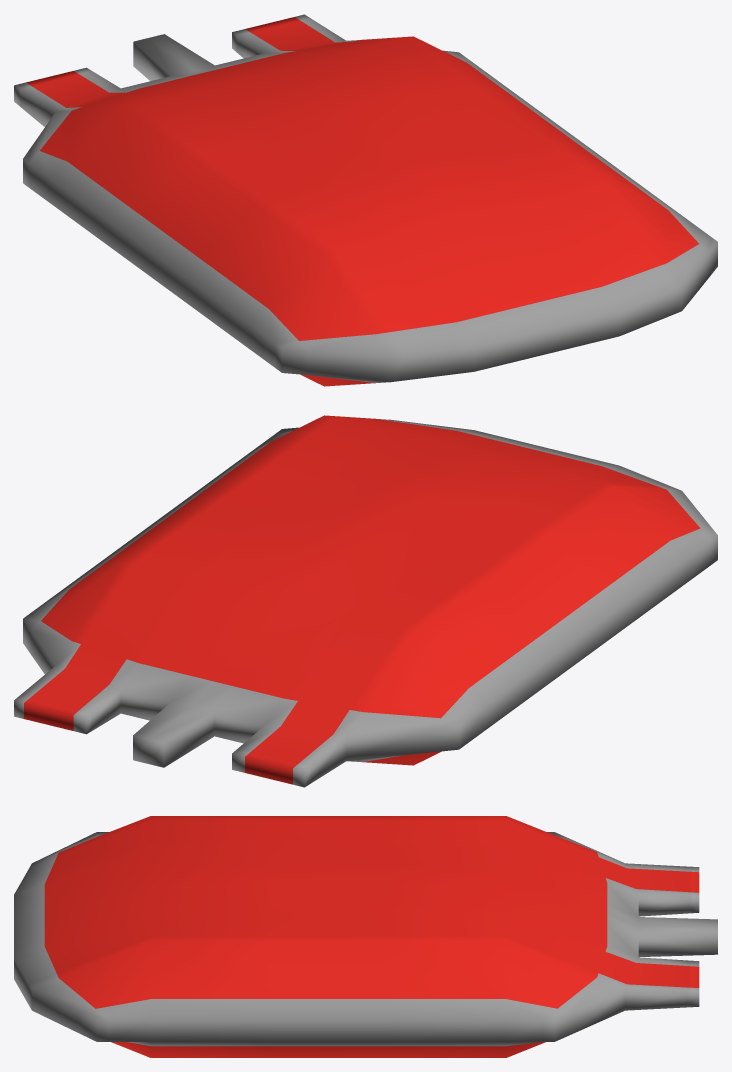
Rendered from KN_BloodPack.fbx.
3 renders of one model, top to bottom at view 1: azimuth 30°, elevation 25°; view 2: azimuth 150°, elevation 25°; view 3: azimuth 270°, elevation 25°, orthographic. The views are drawn at different scales.
Visible parts, largest first — view 1: BloodPack; view 2: BloodPack; view 3: BloodPack.
Boxes of the visible parts, <box> form: BloodPack: <box>14,14,717,386</box>; BloodPack: <box>14,415,717,787</box>; BloodPack: <box>14,816,717,1057</box>.
Size of the model in its own units: 37.91 by 11.97 by 59.98.
